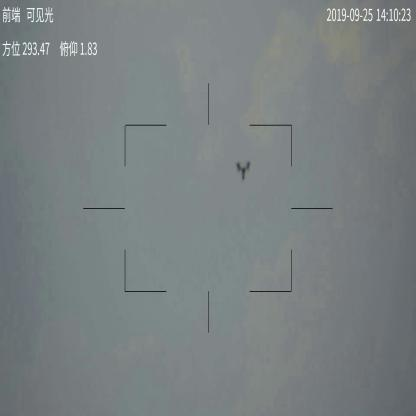uav: (236, 158, 252, 183)
